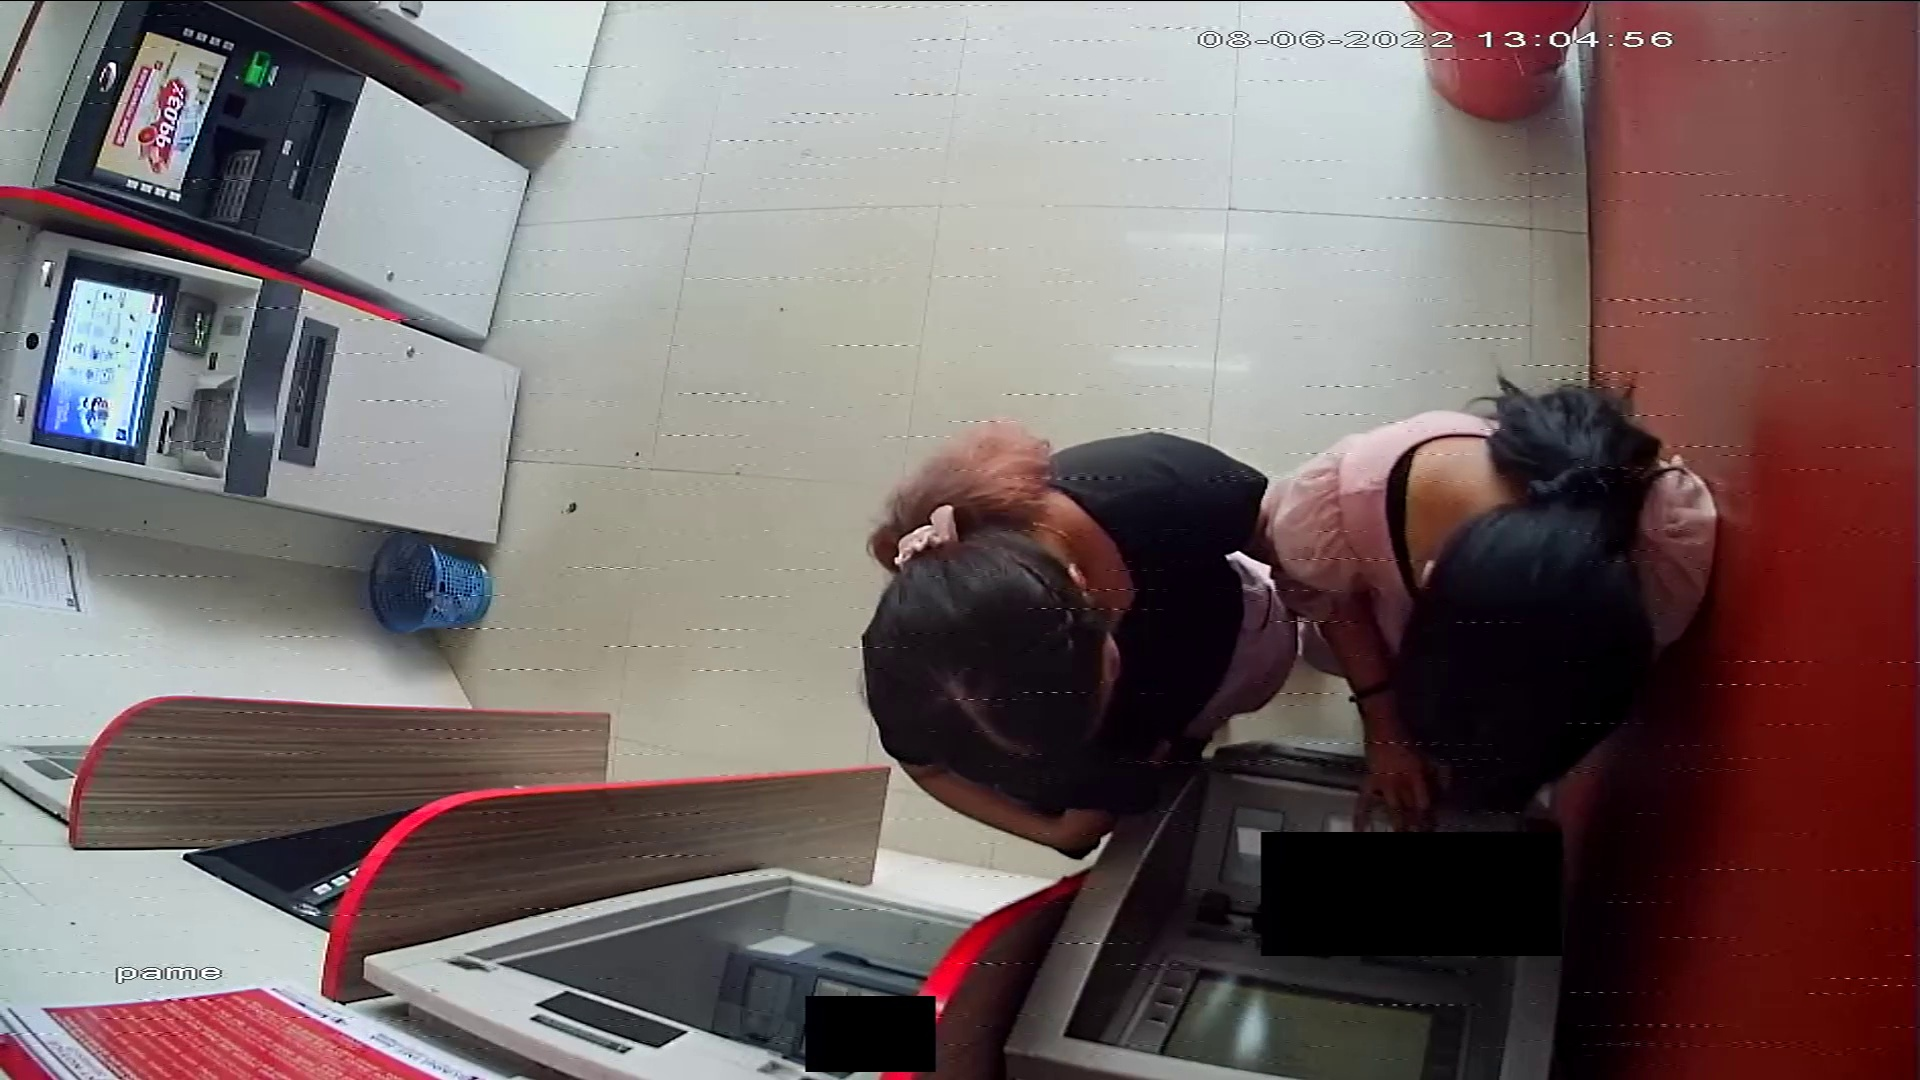person: (1261, 384, 1721, 835), (861, 419, 1296, 859)
